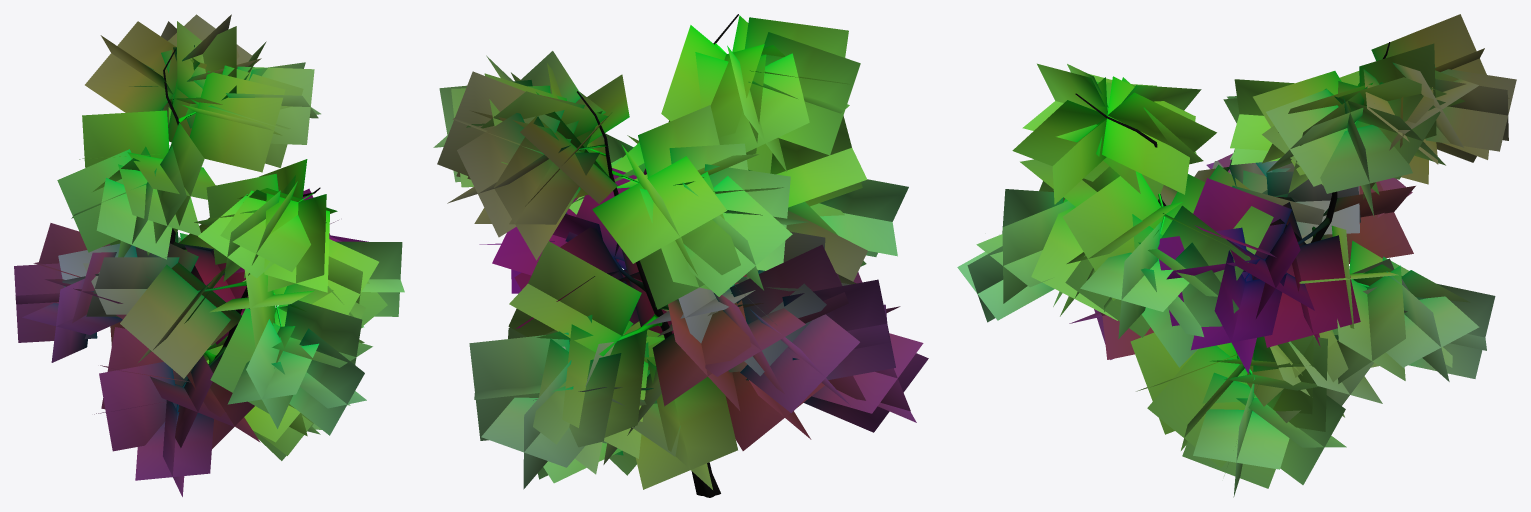
Rendered from URP_P14_Tree_8_LOD_1.fbx.
3 views of the same model, side by side, from view 1: azimuth 30°, elevation 25°; view 2: azimuth 150°, elevation 25°; view 3: azimuth 270°, elevation 25° (orthographic). The views are drawn at different scales.
Parts seen in each view (by area): view 1: Tree_8_LOD_1; view 2: Tree_8_LOD_1; view 3: Tree_8_LOD_1.
Boxes of the visible parts, x1,y1,x2,y2 form: Tree_8_LOD_1: [14, 14, 404, 496]; Tree_8_LOD_1: [433, 14, 928, 497]; Tree_8_LOD_1: [957, 14, 1516, 497].
Bounding box in the file's own units: 431 × 468 × 548.
